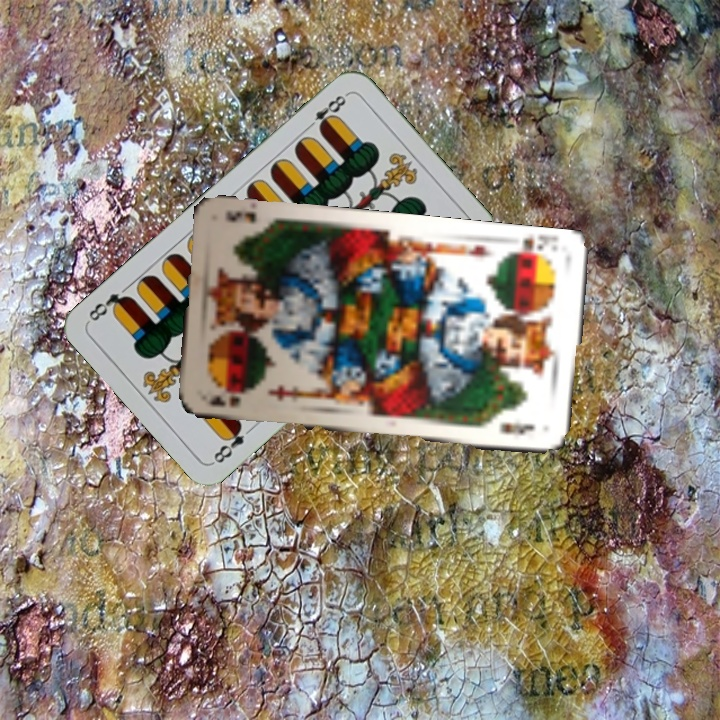E8: (301, 90, 350, 134), (209, 418, 247, 467)
SK: (506, 233, 548, 259), (204, 390, 242, 410)
